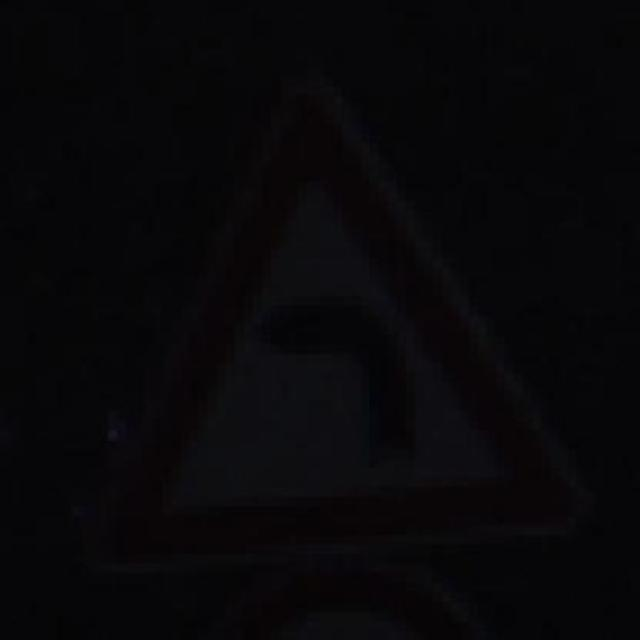Dangerous Left Curve Ahead: (108, 67, 595, 564)
